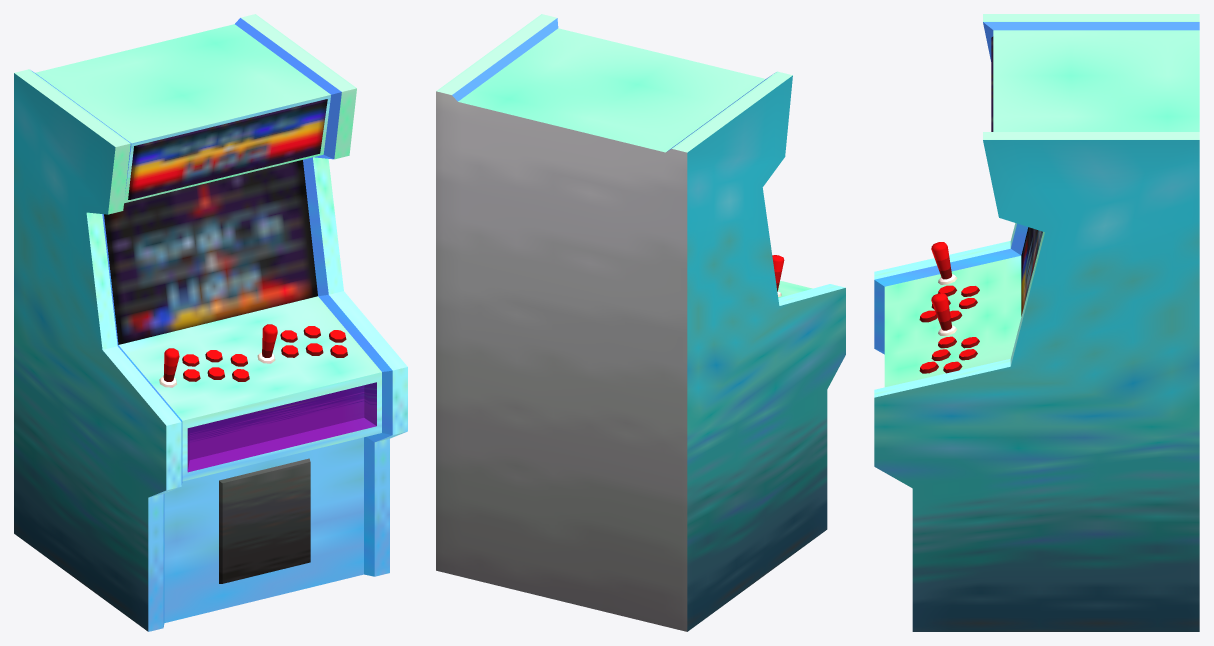
Rendered from 382616e2-7c40-4024-86bd-8ab3bfe6bad6.glb.
3 renders of one model, left to right at view 1: azimuth 30°, elevation 25°; view 2: azimuth 150°, elevation 25°; view 3: azimuth 270°, elevation 25°, orthographic. The views are drawn at different scales.
Visible parts, largest first — view 1: ArcadesAndPinball01; view 2: ArcadesAndPinball01; view 3: ArcadesAndPinball01.
Part boxes in pixels (<box>): ArcadesAndPinball01: <box>14,14,407,631</box>; ArcadesAndPinball01: <box>436,14,845,631</box>; ArcadesAndPinball01: <box>874,14,1199,631</box>.
Size of what is drawn, in the model's own units: 1.14 by 2.08 by 1.25.
1 material, 1 textured.
